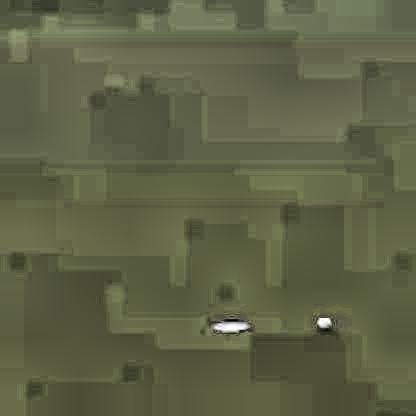golfball: (314, 315, 329, 329)
